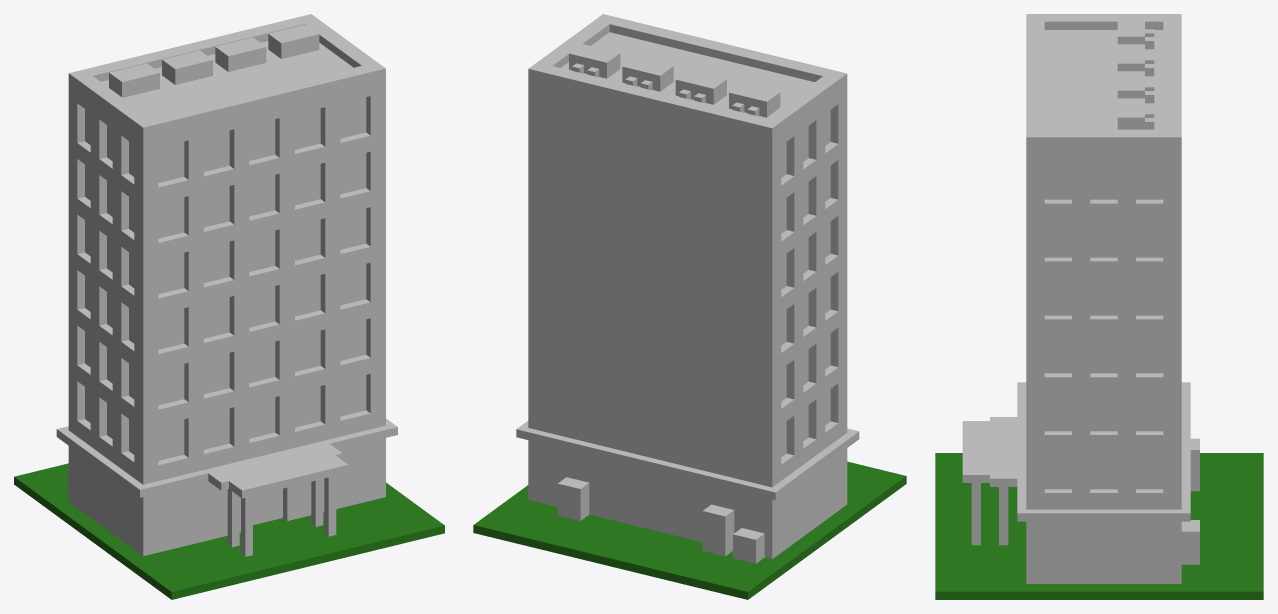
3 renders of one model, left to right at view 1: azimuth 30°, elevation 25°; view 2: azimuth 150°, elevation 25°; view 3: azimuth 270°, elevation 25°, orthographic. The views are drawn at different scales.
Parts seen in each view (by area): view 1: building_7; view 2: building_7; view 3: building_7.
Boxes of the visible parts, <box> form: building_7: <box>14,14,444,599</box>; building_7: <box>473,14,906,599</box>; building_7: <box>935,14,1263,599</box>.
Size of the model in its own units: 9 by 14 by 9.
